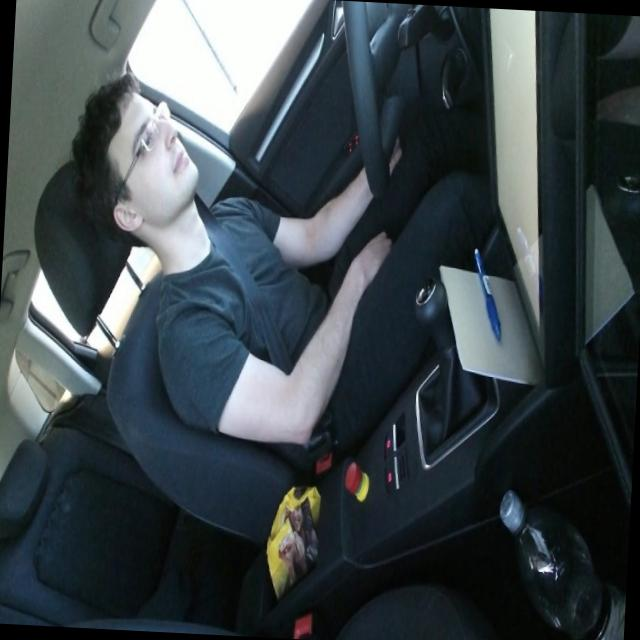pen: (468, 244, 506, 342)
